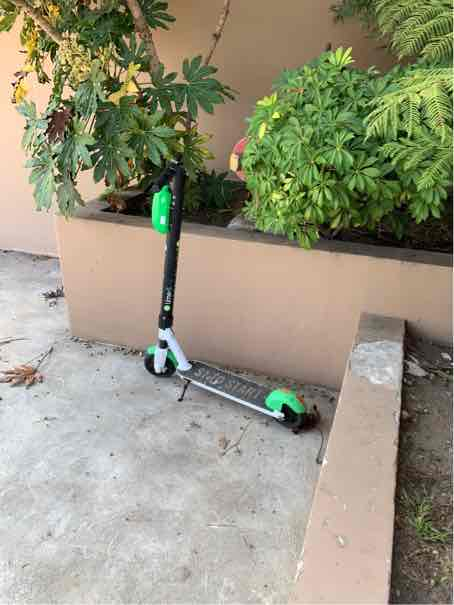scooter: (125, 142, 323, 439)
